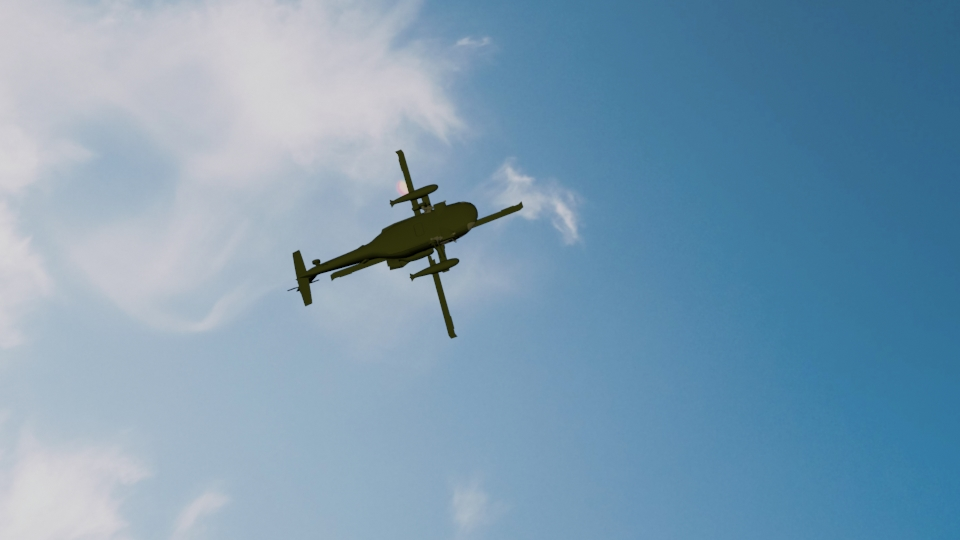heli: (287, 150, 524, 339)
